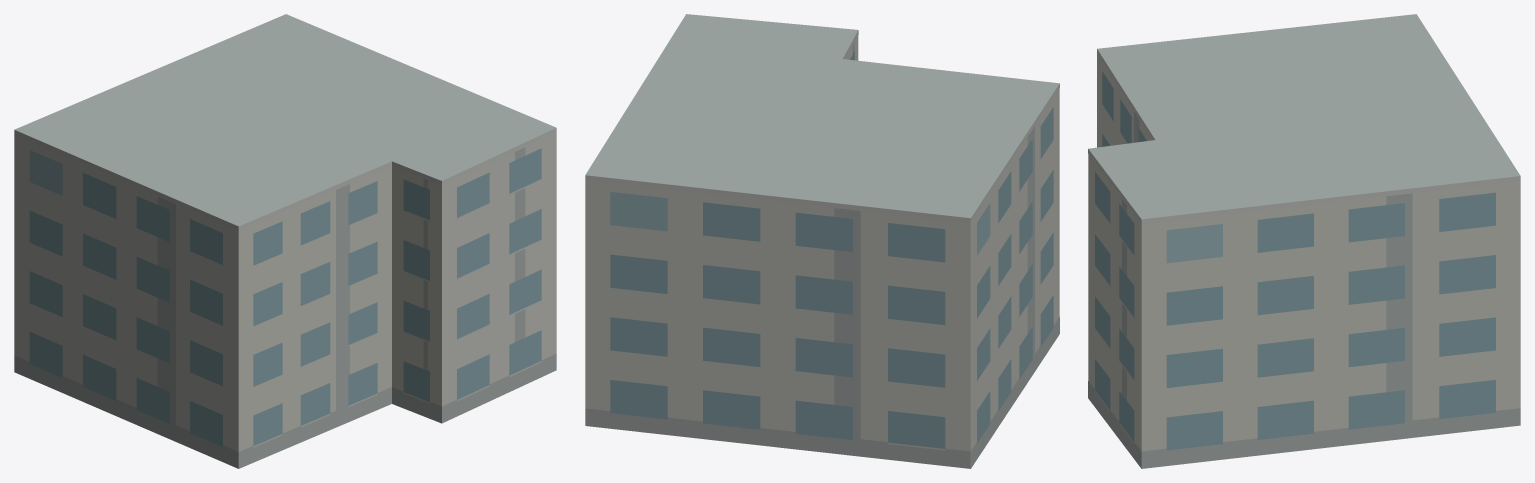
Rendered from survey-upis-32913635.glb.
The picture shows the model from 3 angles, left to right: view 1: azimuth 30°, elevation 25°; view 2: azimuth 150°, elevation 25°; view 3: azimuth 270°, elevation 25°; orthographic projection. The views are drawn at different scales.
Parts seen in each view (by area): view 1: survey-upis-32913635.tmp; view 2: survey-upis-32913635.tmp; view 3: survey-upis-32913635.tmp.
Part boxes in pixels (bbox=[...]): survey-upis-32913635.tmp: bbox=[14, 14, 556, 468]; survey-upis-32913635.tmp: bbox=[585, 14, 1059, 468]; survey-upis-32913635.tmp: bbox=[1088, 14, 1520, 468].
Size of the model in its own units: 21.54 by 12.2 by 19.17.
